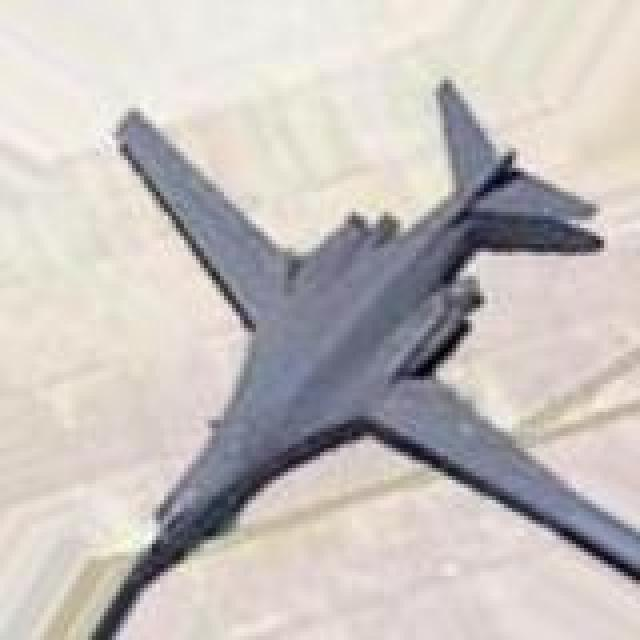B-1_TopDown: (64, 72, 636, 636)
